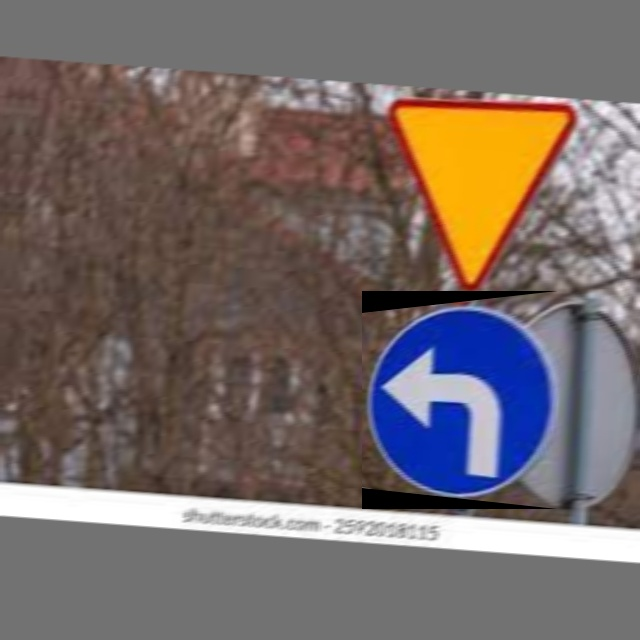Compulsory_Turn_Left_Ahead: (362, 291, 558, 509)
